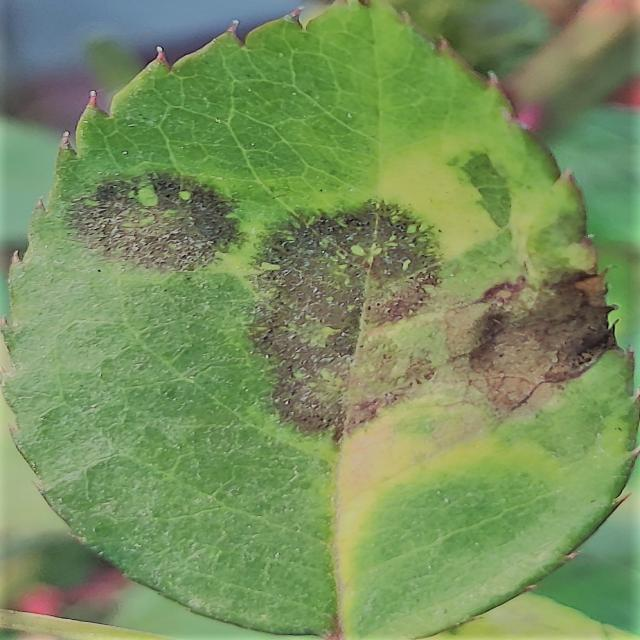Black_spot: (247, 196, 443, 440), (63, 168, 244, 275)
Rose: (1, 1, 637, 637)
